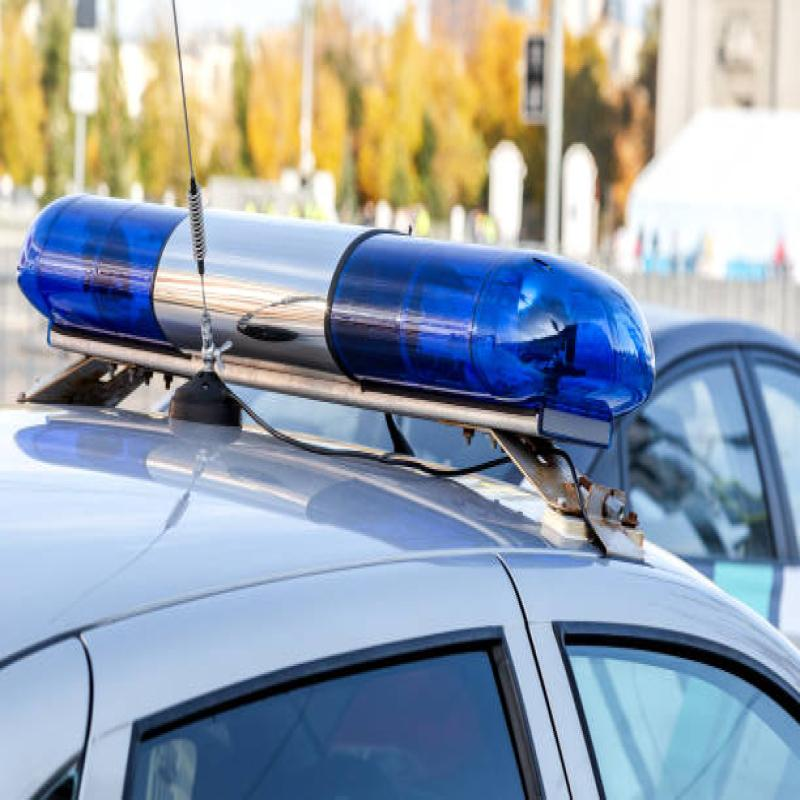AmbulanceSiren: (7, 125, 652, 514)
